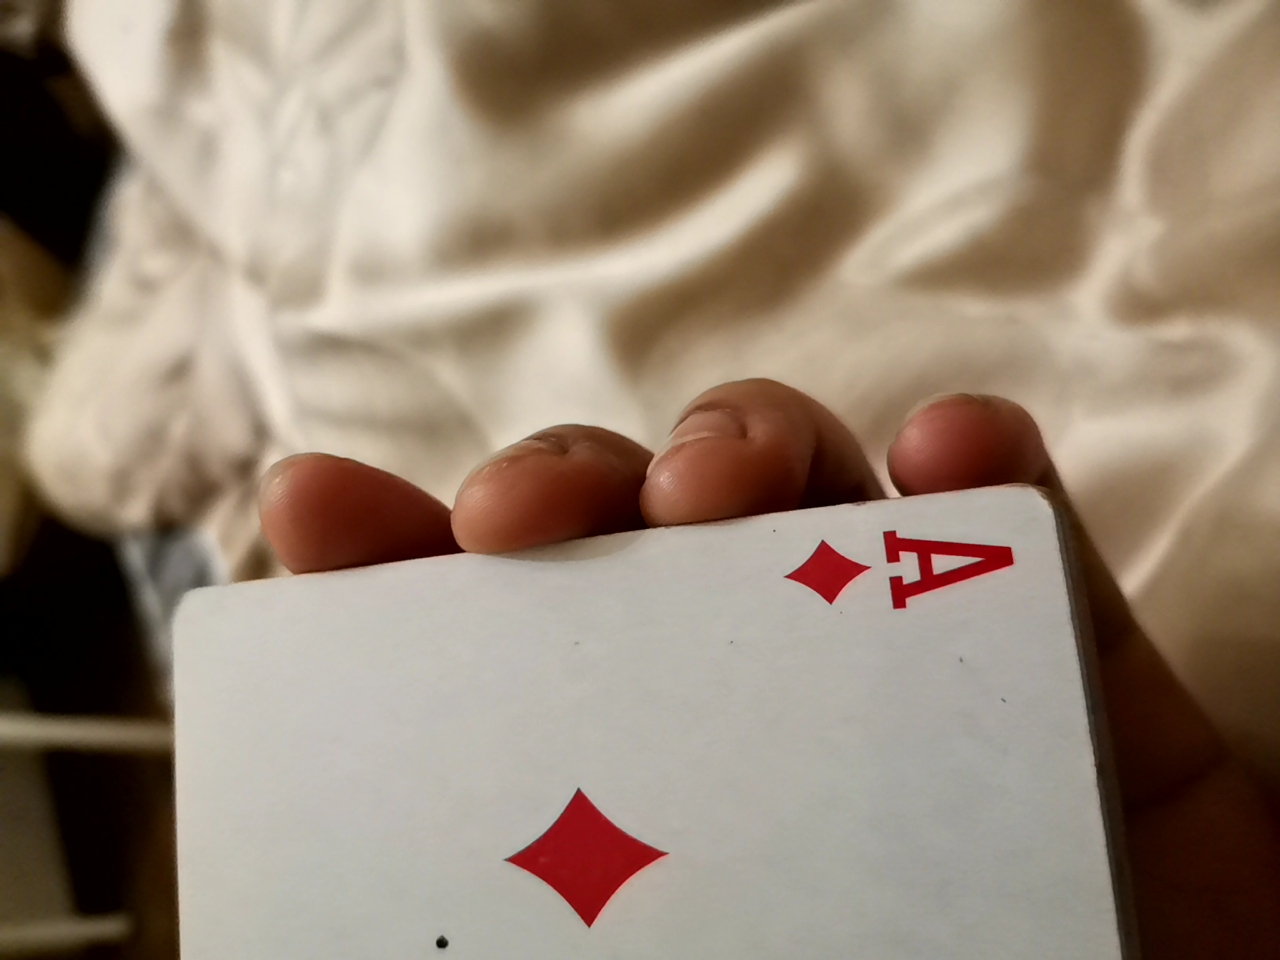fk a: (89, 512, 1116, 949)
